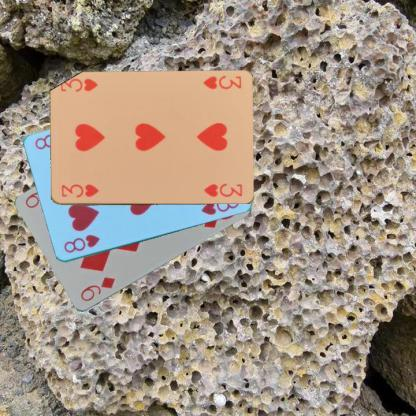3h: (58, 181, 100, 199), (201, 73, 243, 91)
8h: (61, 232, 102, 255)
9d: (78, 274, 116, 304)
